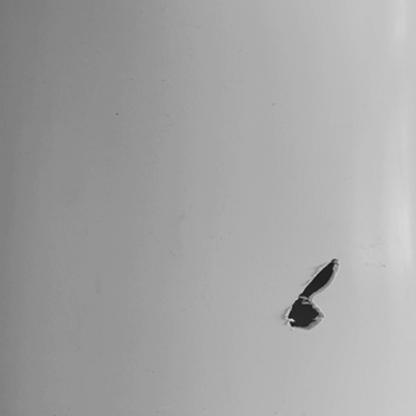kongdong: (284, 260, 338, 330)
